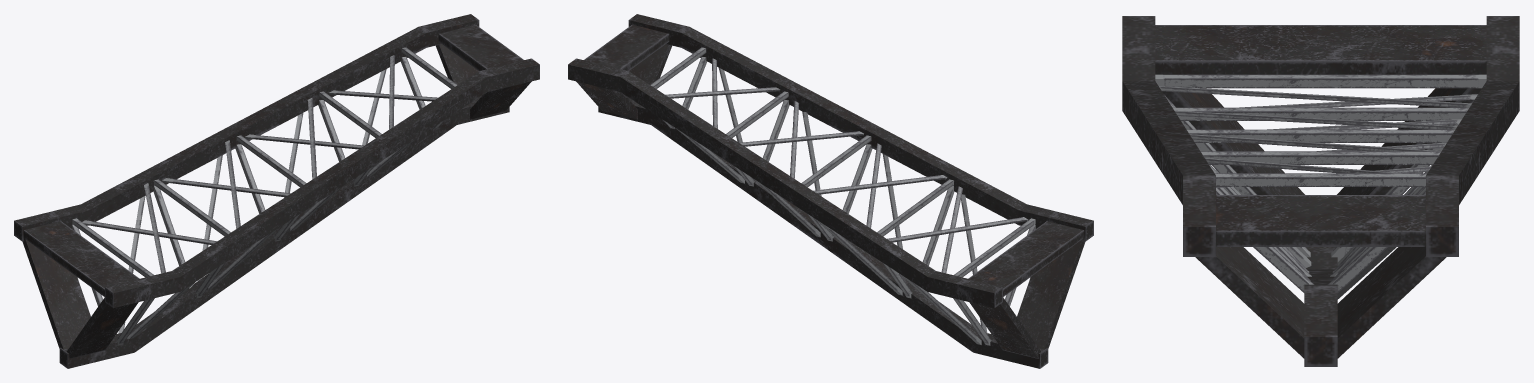
File: beam_l_2.fbx
3 views of the same model, side by side, from view 1: azimuth 30°, elevation 25°; view 2: azimuth 150°, elevation 25°; view 3: azimuth 270°, elevation 25° (orthographic). The views are drawn at different scales.
Parts seen in each view (by area): view 1: beam_l_2; view 2: beam_l_2; view 3: beam_l_2.
Part boxes in pixels (box(x1,y1,x2,y2)): beam_l_2: box(14, 14, 539, 368); beam_l_2: box(568, 14, 1093, 368); beam_l_2: box(1122, 16, 1519, 366).
Size of the model in its own units: 16.81 by 7.96 by 6.54.
